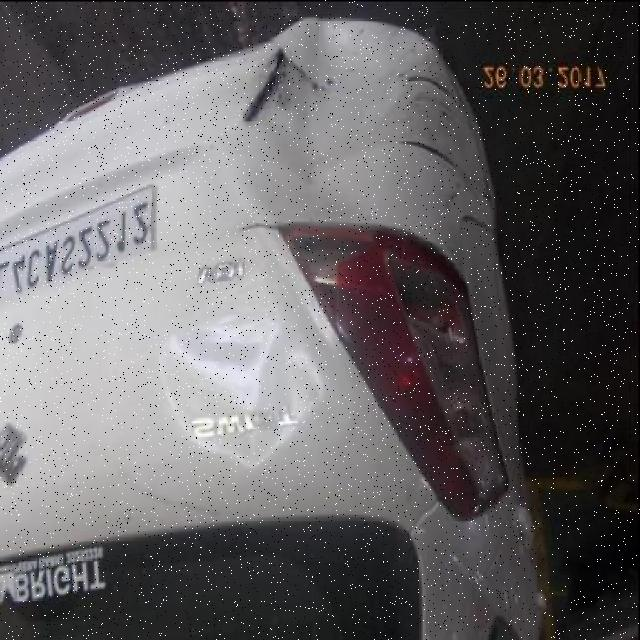damage: (157, 273, 330, 461), (291, 16, 435, 179), (244, 43, 287, 127), (284, 46, 340, 99), (401, 136, 466, 181), (406, 65, 461, 105)
